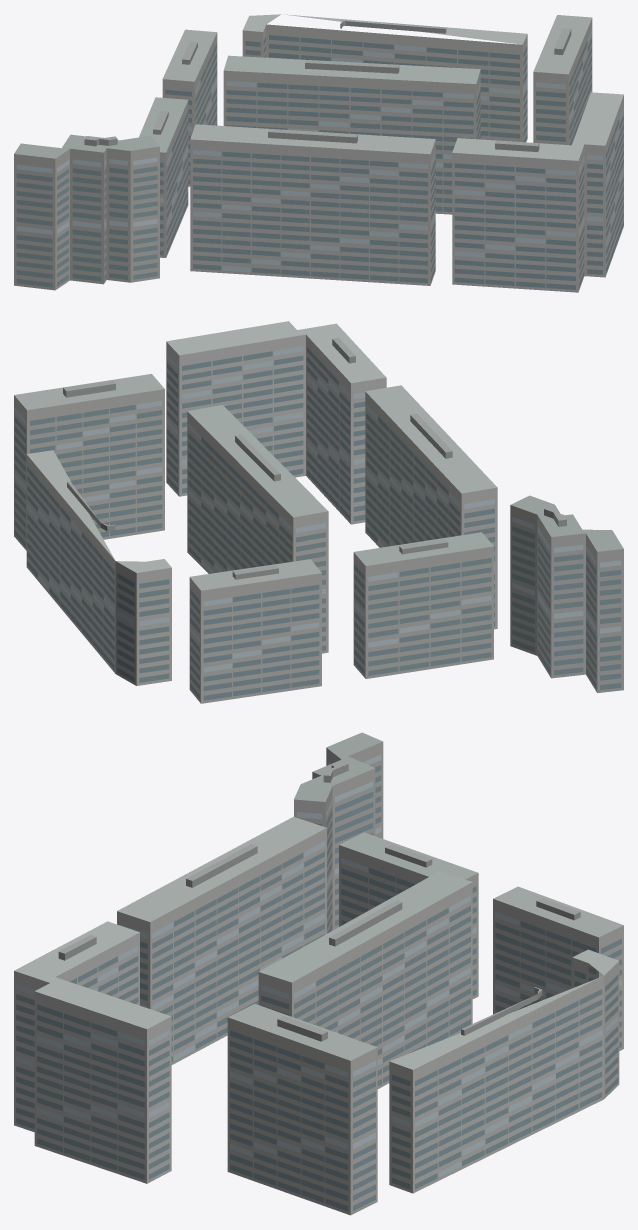
File: apt-a13087201.glb
The picture shows the model from 3 angles, top to bottom: view 1: azimuth 30°, elevation 25°; view 2: azimuth 150°, elevation 25°; view 3: azimuth 270°, elevation 25°; orthographic projection. The views are drawn at different scales.
Parts seen in each view (by area): view 1: apt-a13087201; view 2: apt-a13087201; view 3: apt-a13087201.
Boxes of the visible parts, box(x1,y1,x2,y2) form: apt-a13087201: box(14, 14, 623, 292); apt-a13087201: box(14, 321, 623, 703); apt-a13087201: box(14, 732, 623, 1215).
Size of the model in its own units: 208 by 47.81 by 164.
